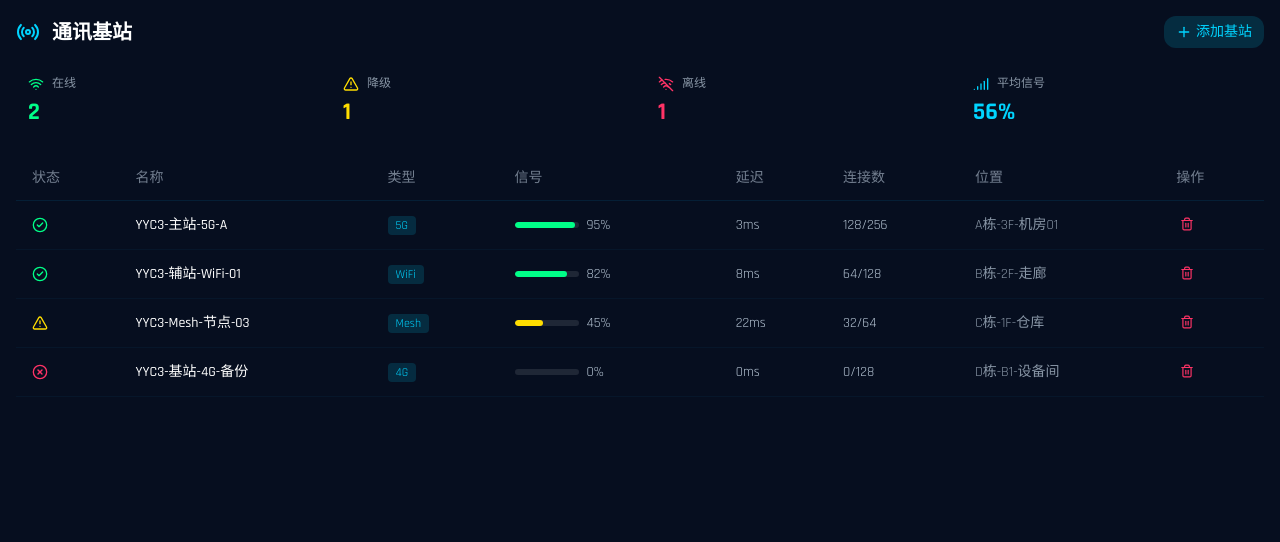
Test: CommStationPanel › 详情面板 › clicking a station row shows detail panel
This screenshot has width=1280, height=542.
Click the text "YYC3-主站-5G-A" at (181, 225), box [120,200,372,250]
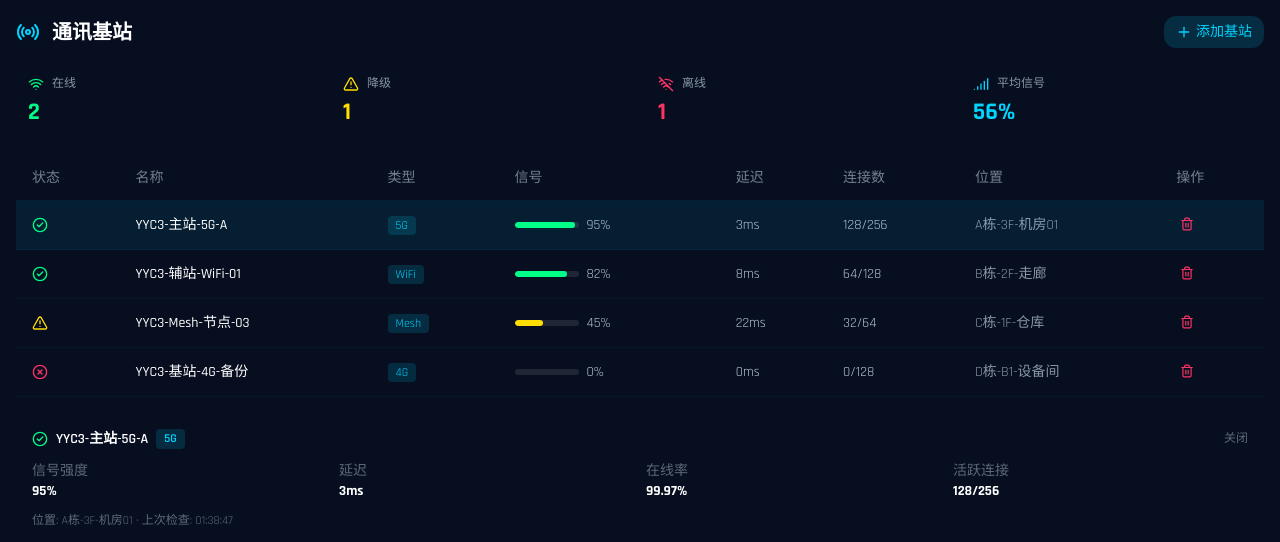
Expected: the text "在线率" is shown, [646,462,688,480]
Expected: the text "活跃连接" is shown, [953,462,1009,480]
